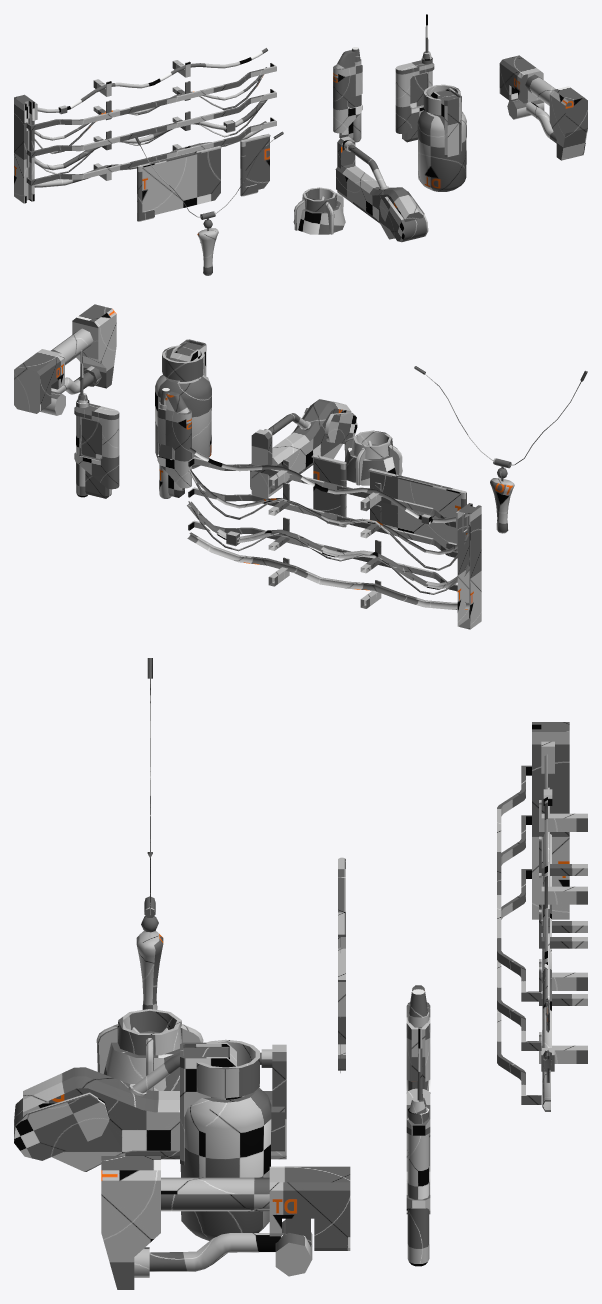
The model's file is Pack_09_Gameready.FBX.
The picture shows the model from 3 angles, top to bottom: view 1: azimuth 30°, elevation 25°; view 2: azimuth 150°, elevation 25°; view 3: azimuth 270°, elevation 25°; orthographic projection. The views are drawn at different scales.
Parts seen in each view (by area): view 1: sss, Box017; view 2: sss, Box017; view 3: sss, Box017.
Part boxes in pixels (x1,y1,x2,y2): sss: [14, 14, 587, 242]; Box017: [134, 131, 283, 275]; sss: [14, 304, 481, 629]; Box017: [414, 366, 587, 533]; sss: [14, 722, 587, 1289]; Box017: [136, 658, 163, 1009].
Size of the model in its own units: 16601 by 9628 by 5487.
